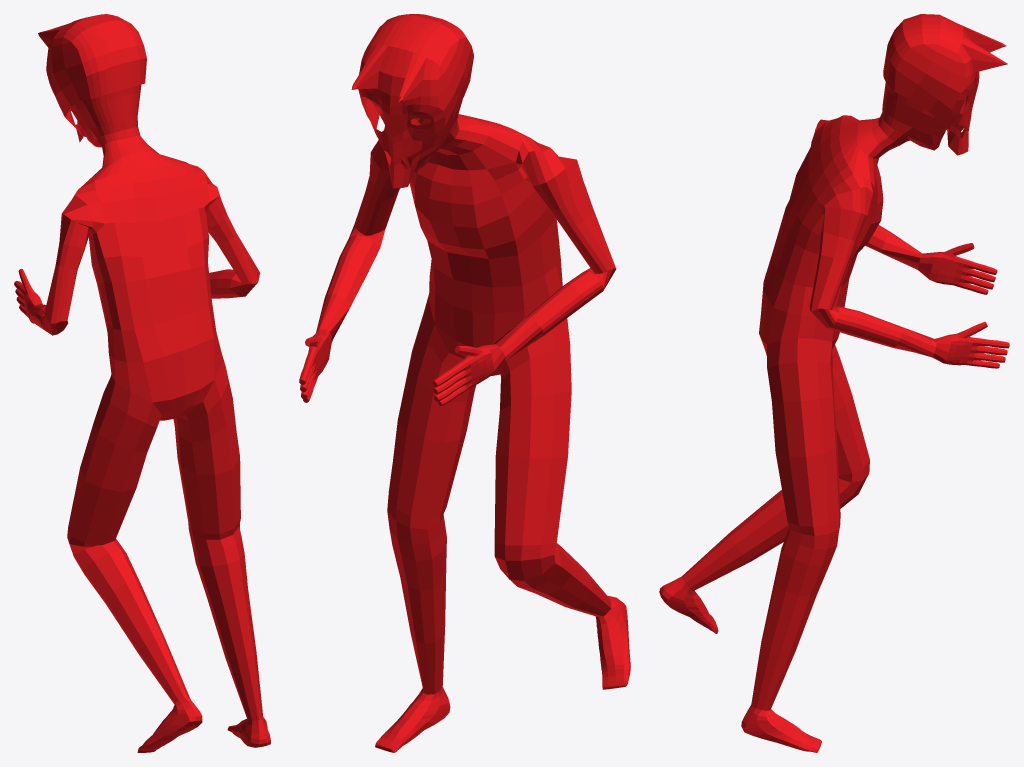
The model's file is correrE_000113.obj.
3 renders of one model, left to right at view 1: azimuth 30°, elevation 25°; view 2: azimuth 150°, elevation 25°; view 3: azimuth 270°, elevation 25°, orthographic. The views are drawn at different scales.
Parts seen in each view (by area): view 1: Plane.002_Plane.001; view 2: Plane.002_Plane.001; view 3: Plane.002_Plane.001.
Boxes of the visible parts, bbox=[...] form: Plane.002_Plane.001: bbox=[14, 14, 270, 752]; Plane.002_Plane.001: bbox=[299, 14, 630, 752]; Plane.002_Plane.001: bbox=[659, 14, 1009, 752].
Size of the model in its own units: 2.24 by 6.76 by 3.12.
